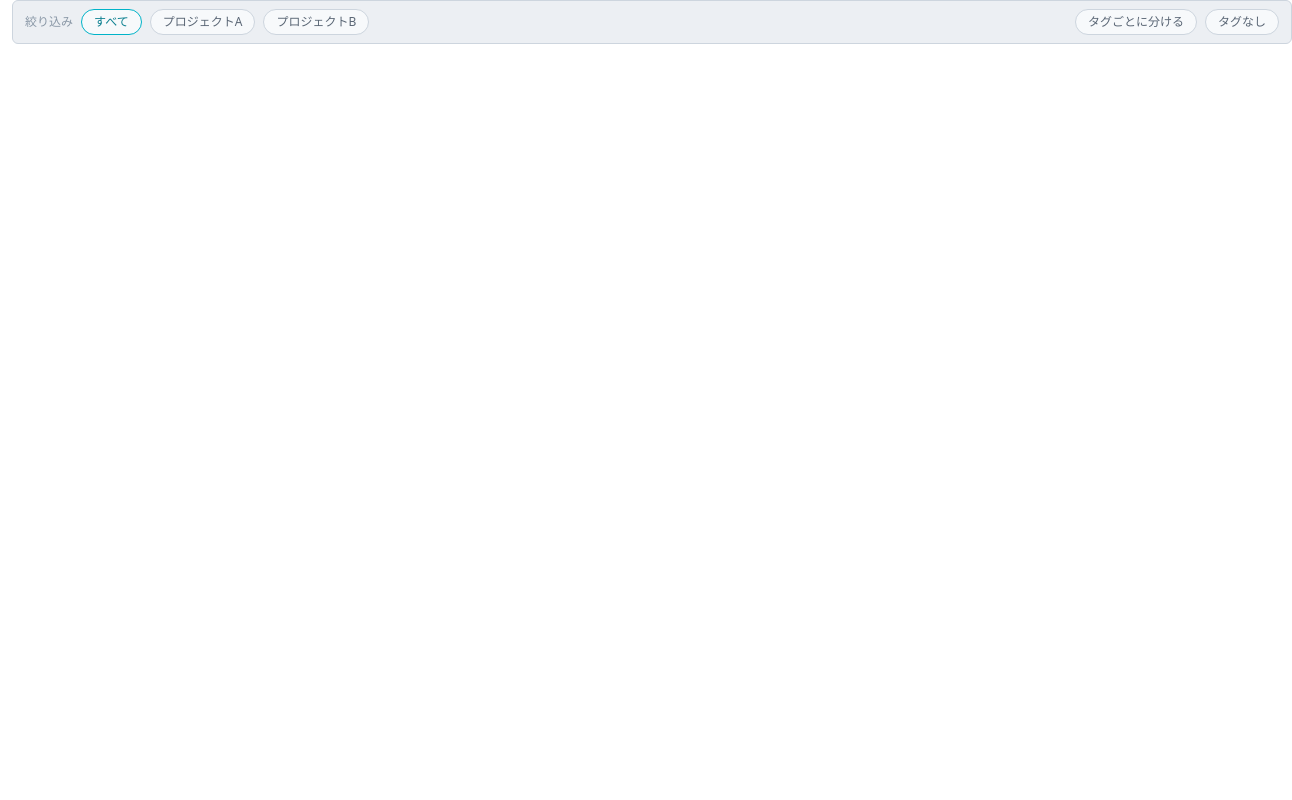
it: NoteList › タグごとに分けて並べられる
The width and height of the screenshot is (1292, 800).
Click the button "タグごとに分ける" at {"x": 1136, "y": 22}, box x1=1075 y1=9 x2=1197 y2=35
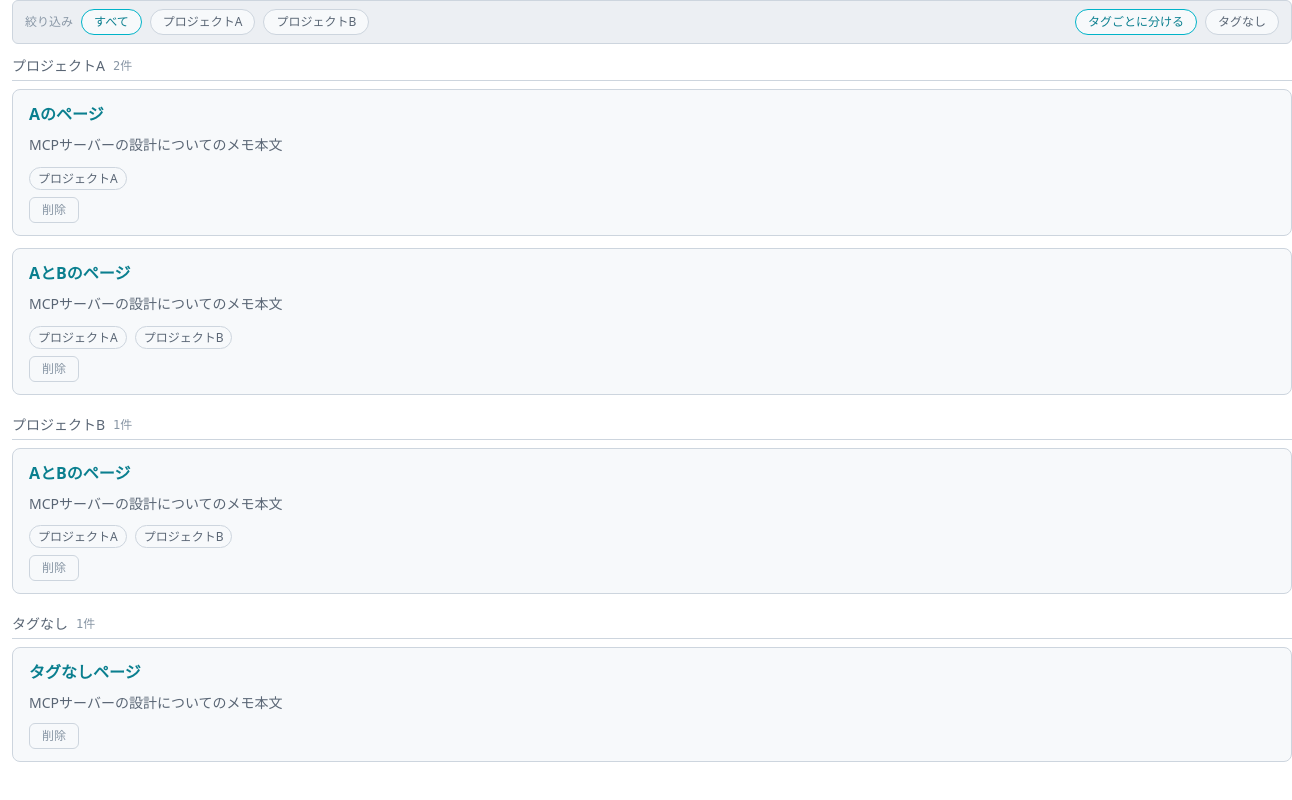
Expected: the button "Aのページ" is shown, x1=29 y1=102 x2=104 y2=126
Expected: the 1st button "AとBのページ" is shown, x1=29 y1=261 x2=130 y2=285
Expected: the 2nd button "AとBのページ" is shown, x1=29 y1=460 x2=130 y2=484
